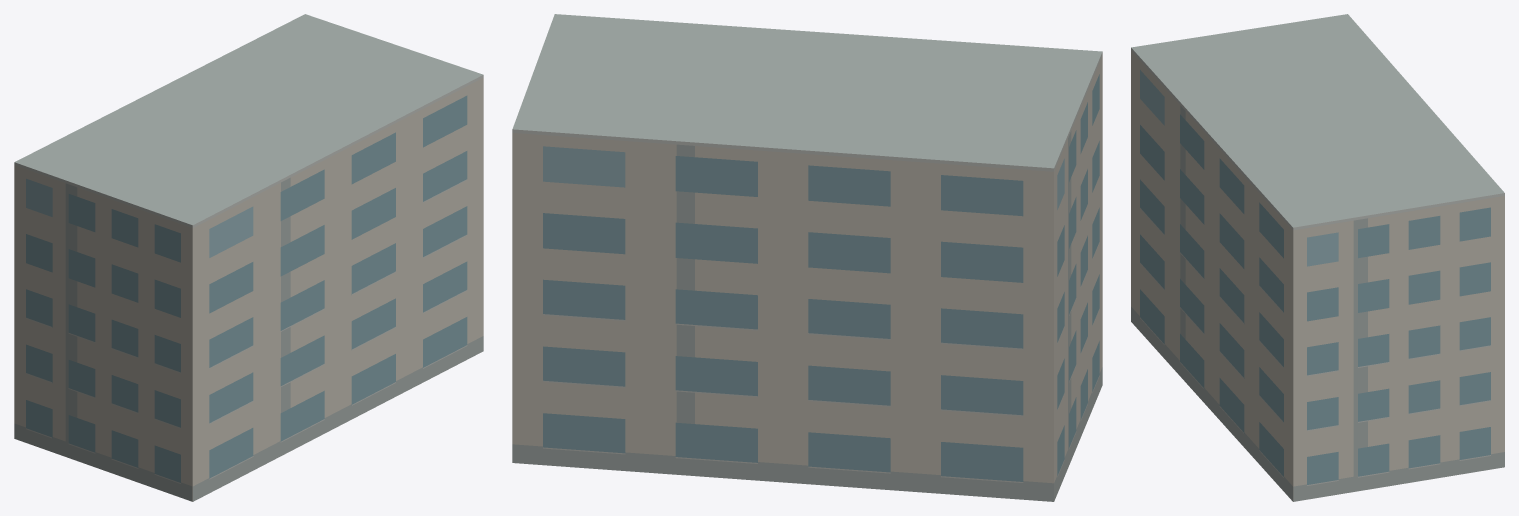
File: survey-upis-32844643.glb
3 renders of one model, left to right at view 1: azimuth 30°, elevation 25°; view 2: azimuth 150°, elevation 25°; view 3: azimuth 270°, elevation 25°, orthographic. The views are drawn at different scales.
Parts seen in each view (by area): view 1: survey-upis-32844643.tmp; view 2: survey-upis-32844643.tmp; view 3: survey-upis-32844643.tmp.
Part boxes in pixels (x1,y1,x2,y2): survey-upis-32844643.tmp: [14, 14, 483, 501]; survey-upis-32844643.tmp: [512, 14, 1102, 501]; survey-upis-32844643.tmp: [1131, 14, 1504, 501].
Bounding box in the file's own units: 39.61 × 23.7 × 29.29.
